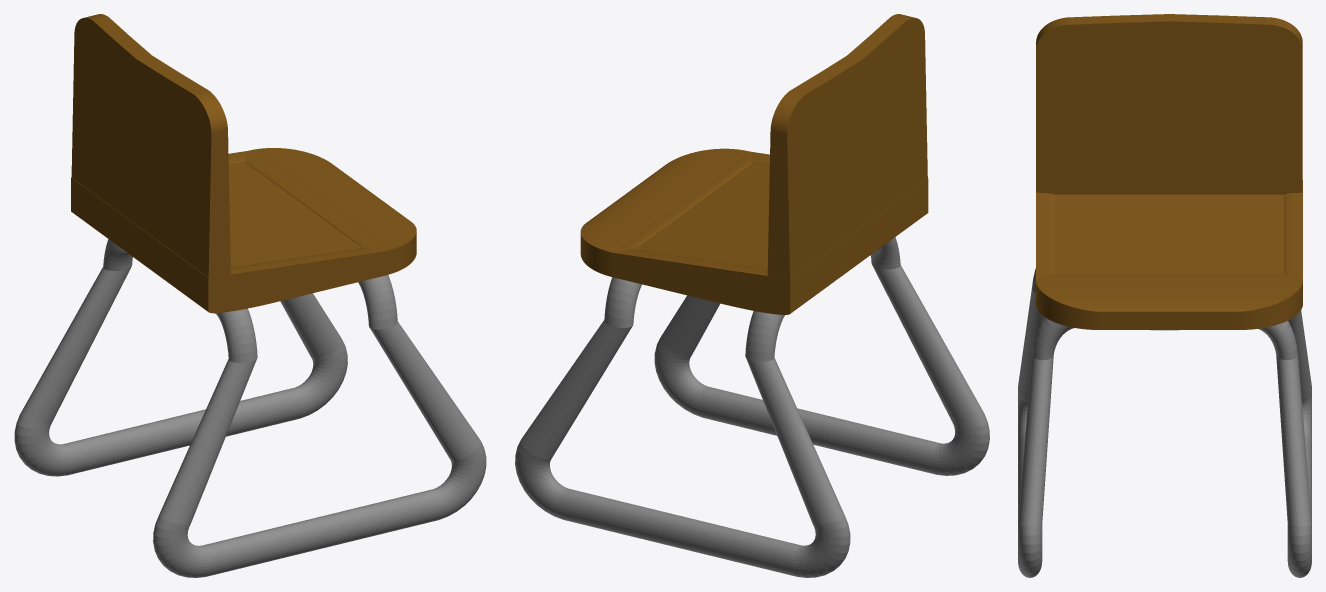
File: Sthul.fbx
The picture shows the model from 3 angles, left to right: view 1: azimuth 30°, elevation 25°; view 2: azimuth 150°, elevation 25°; view 3: azimuth 270°, elevation 25°; orthographic projection. The views are drawn at different scales.
Parts seen in each view (by area): view 1: Cylinder, Cube.001, Cube; view 2: Cylinder, Cube.001, Cube; view 3: Cube.001, Cube, Cylinder.
Part boxes in pixels (left/top/right/bottom): Cylinder: left=14, top=239, right=486, bottom=577; Cube.001: left=71, top=14, right=230, bottom=277; Cube: left=71, top=148, right=416, bottom=313; Cylinder: left=515, top=237, right=989, bottom=577; Cube.001: left=767, top=14, right=927, bottom=279; Cube: left=580, top=148, right=928, bottom=314; Cube.001: left=1036, top=14, right=1302, bottom=194; Cube: left=1036, top=180, right=1302, bottom=329; Cylinder: left=1018, top=268, right=1311, bottom=577.
Size of the model in its own units: 0.7126 by 0.9532 by 0.5631.
